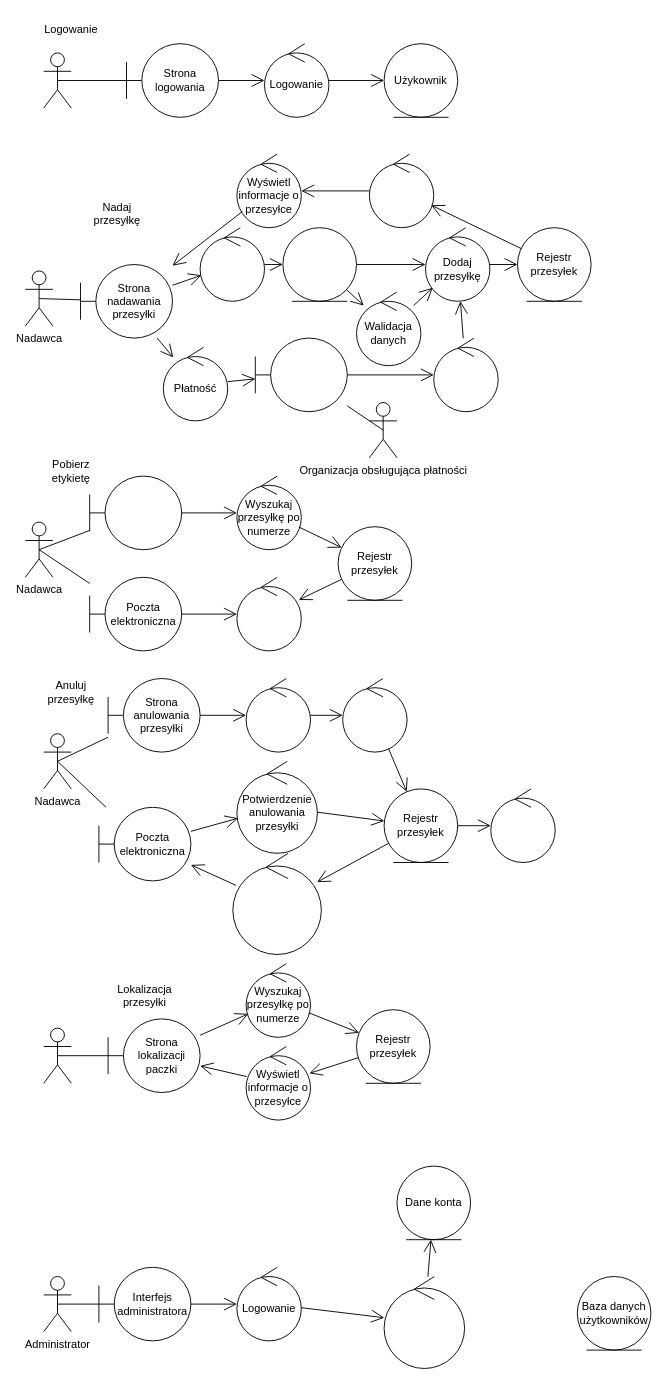
Image size: 667x1385. Some labels were removed from this diagram. Each missing label, with the box of its shape:
Formularz wysyłki: (282, 227, 356, 301)
Odbiorca: (43, 1027, 71, 1083)
Potwierdzenie płatności: (433, 337, 498, 412)
Przesłanie formularza: (199, 227, 264, 301)
Strona pobrania etykiety: (89, 475, 182, 550)
System obsługi płatności: (254, 337, 347, 412)
Użytkownik: (43, 52, 71, 108)
Weryfikacja stanu przesyłki: (342, 678, 407, 752)
Wprowadzenie danych nowego konta: (383, 1276, 465, 1368)
Wygeneruj etykietę: (368, 153, 434, 228)
Wysłanie maila z potwierdzeniem: (232, 852, 321, 954)
Wyślij maila z etykietą: (236, 576, 301, 651)
Zmiana stanu przesyłki: (490, 788, 555, 862)
Żądanie anulowania wysyłki: (245, 678, 310, 752)
